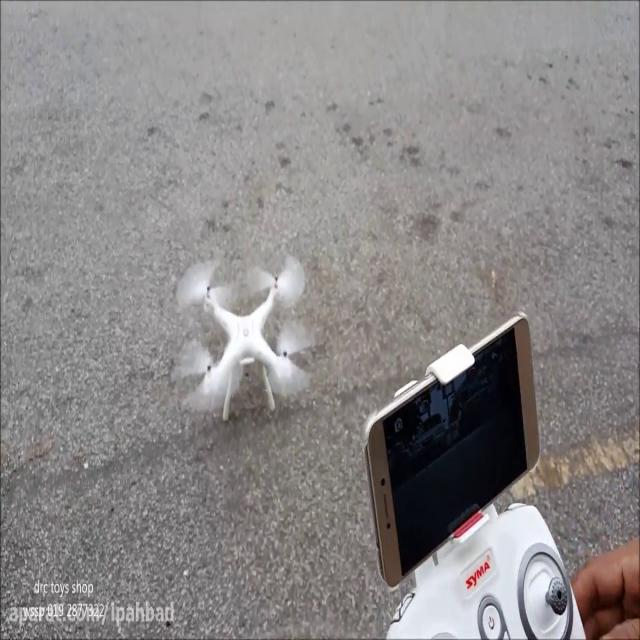drone: (173, 253, 319, 423)
